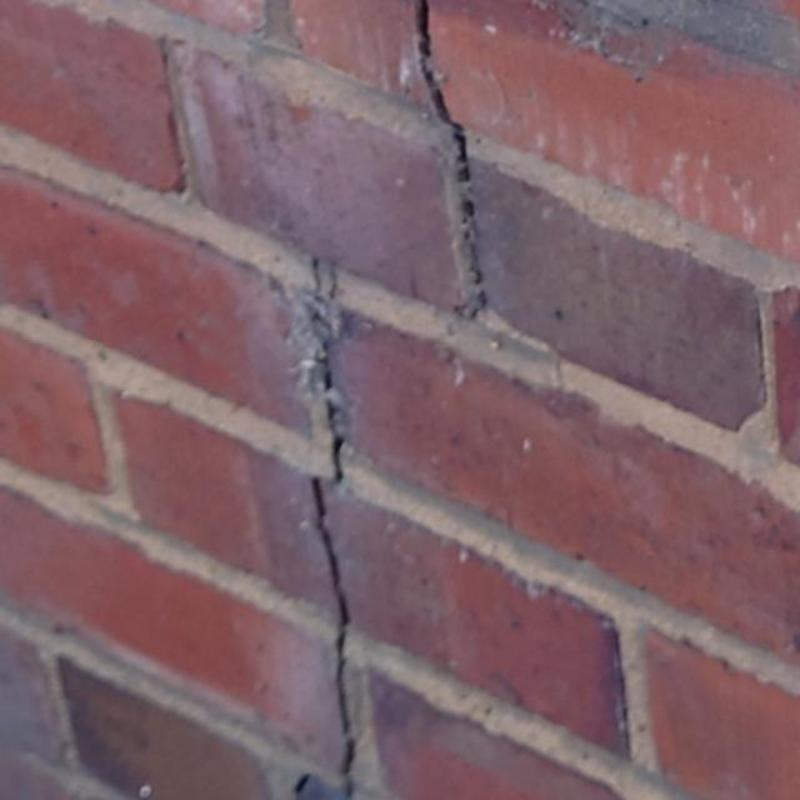crack: (416, 0, 484, 317), (312, 477, 355, 799), (306, 259, 345, 483), (295, 775, 309, 794)
